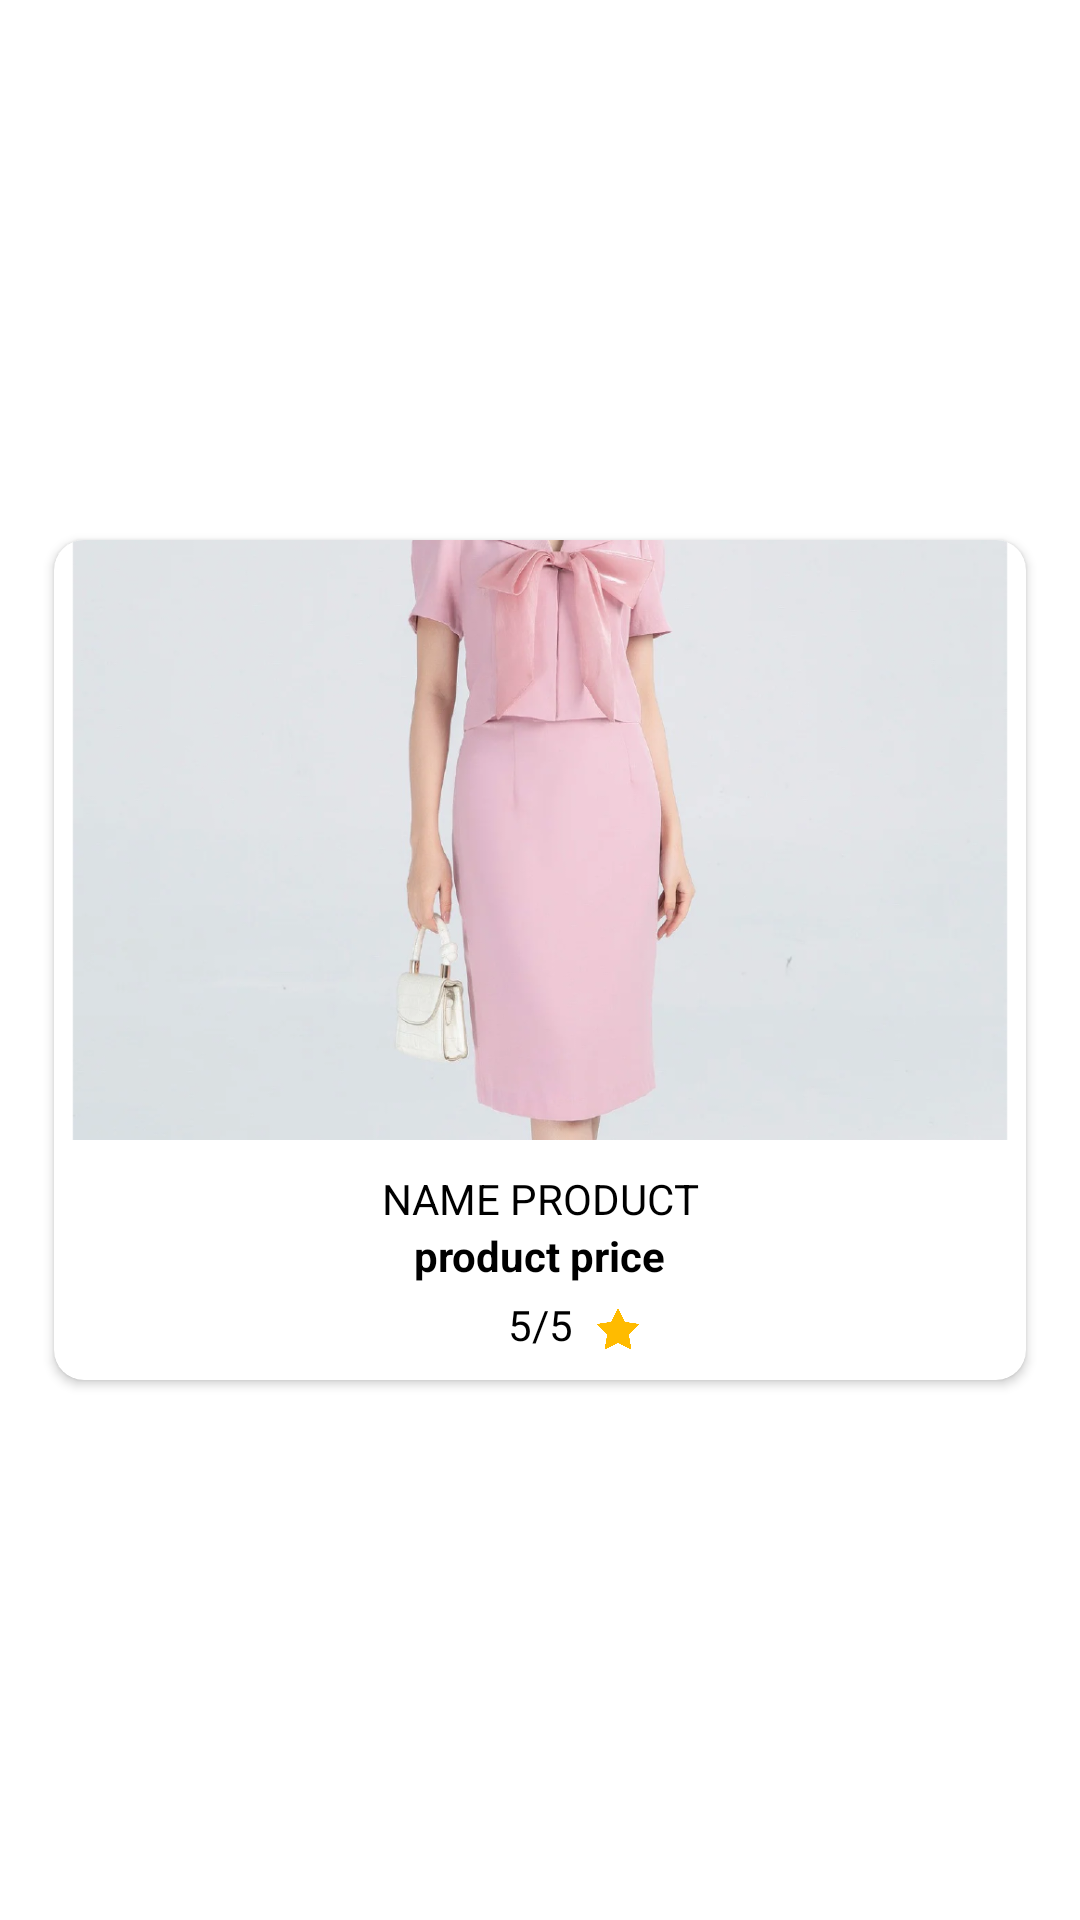

Screen size 1080w x 1920h. Icon name, then its center in pixels as [x,y]:
star: [618,1329]
